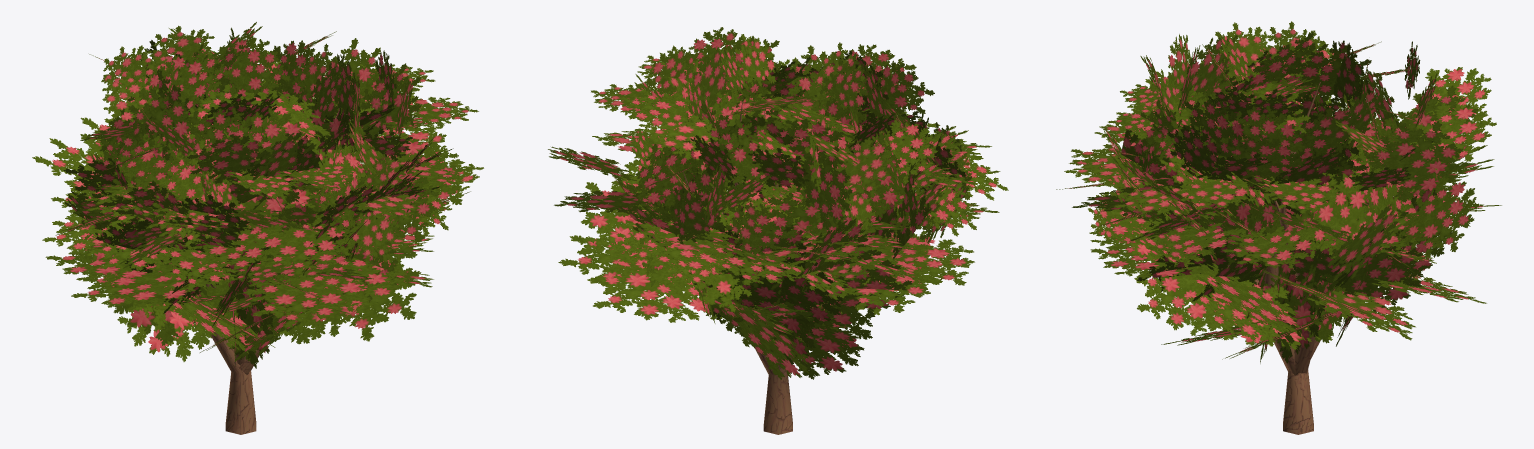
File: BloomyStraightBush.fbx
3 renders of one model, left to right at view 1: azimuth 30°, elevation 25°; view 2: azimuth 150°, elevation 25°; view 3: azimuth 270°, elevation 25°, orthographic. The views are drawn at different scales.
Parts seen in each view (by area): view 1: BloomyStraightBushLeaves_LOD0, BloomyStraightBush_LOD0; view 2: BloomyStraightBushLeaves_LOD0, BloomyStraightBush_LOD0; view 3: BloomyStraightBushLeaves_LOD0, BloomyStraightBush_LOD0.
Part boxes in pixels (x1,y1,x2,y2): BloomyStraightBushLeaves_LOD0: [32, 22, 483, 368]; BloomyStraightBush_LOD0: [167, 100, 365, 434]; BloomyStraightBushLeaves_LOD0: [548, 27, 1008, 379]; BloomyStraightBush_LOD0: [683, 98, 875, 434]; BloomyStraightBushLeaves_LOD0: [1056, 21, 1501, 363]; BloomyStraightBush_LOD0: [1227, 78, 1386, 434].
Size of what is drawn, in the model's own units: 118 by 101 by 114.
